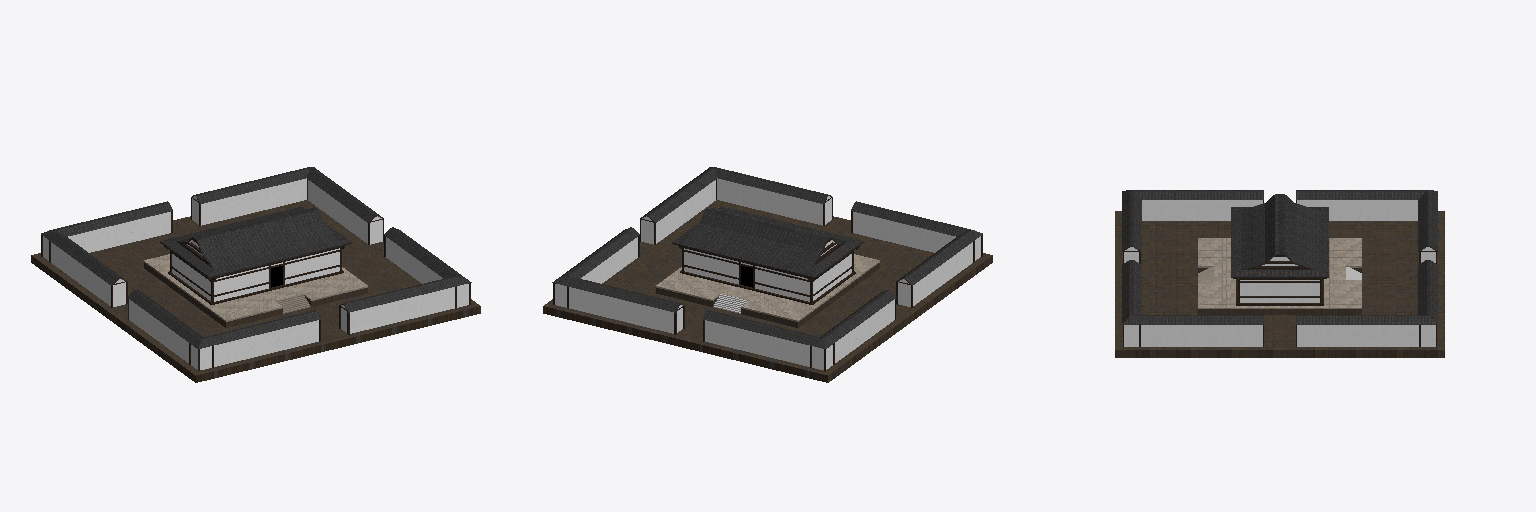
3 renders of one model, left to right at view 1: azimuth 30°, elevation 25°; view 2: azimuth 150°, elevation 25°; view 3: azimuth 270°, elevation 25°, orthographic.
Parts seen in each view (by area): view 1: Plane, Plane.005_Plane.008, Plane.011_Plane.077, Plane.013_Plane.063, Plane.001_Plane.073, Plane.034_Plane.081, Plane.016_Plane.041, Plane.003_Plane.007, Plane.014_Plane.064, Plane.035_Plane.082, Plane.008_Plane.074, Plane.012_Plane.078 (+2 smaller); view 2: Plane, Plane.005_Plane.008, Plane.034_Plane.081, Plane.001_Plane.073, Plane.013_Plane.063, Plane.011_Plane.077, Plane.016_Plane.041, Plane.003_Plane.007, Plane.008_Plane.074, Plane.012_Plane.078, Plane.014_Plane.064, Plane.035_Plane.082 (+2 smaller); view 3: Plane, Plane.005_Plane.008, Plane.016_Plane.041, Plane.011_Plane.077, Plane.034_Plane.081, Plane.012_Plane.078, Plane.035_Plane.082, Plane.014_Plane.064, Plane.008_Plane.074, Plane.013_Plane.063, Plane.001_Plane.073, Plane.003_Plane.007 (+1 smaller).
Boxes of the visible parts, x1,y1,x2,y2 form: Plane: [31, 200, 480, 382]; Plane.005_Plane.008: [160, 206, 351, 278]; Plane.011_Plane.077: [192, 178, 382, 244]; Plane.013_Plane.063: [129, 299, 318, 369]; Plane.001_Plane.073: [43, 212, 170, 306]; Plane.034_Plane.081: [341, 237, 468, 333]; Plane.016_Plane.041: [144, 254, 367, 321]; Plane.003_Plane.007: [172, 248, 339, 301]; Plane.014_Plane.064: [127, 290, 320, 348]; Plane.035_Plane.082: [339, 227, 471, 312]; Plane.008_Plane.074: [41, 201, 172, 285]; Plane.012_Plane.078: [191, 167, 383, 222]; Plane: [543, 200, 992, 382]; Plane.005_Plane.008: [672, 206, 863, 278]; Plane.034_Plane.081: [641, 178, 831, 244]; Plane.001_Plane.073: [705, 299, 894, 369]; Plane.013_Plane.063: [853, 212, 980, 306]; Plane.011_Plane.077: [555, 237, 682, 333]; Plane.016_Plane.041: [656, 254, 879, 321]; Plane.003_Plane.007: [684, 248, 851, 301]; Plane.008_Plane.074: [703, 290, 896, 348]; Plane.012_Plane.078: [552, 227, 684, 312]; Plane.014_Plane.064: [851, 201, 982, 285]; Plane.035_Plane.082: [640, 167, 832, 222]; Plane: [1115, 211, 1444, 357]; Plane.005_Plane.008: [1231, 194, 1328, 277]; Plane.016_Plane.041: [1198, 238, 1361, 308]; Plane.011_Plane.077: [1297, 325, 1435, 346]; Plane.034_Plane.081: [1124, 325, 1262, 346]; Plane.012_Plane.078: [1296, 260, 1437, 324]; Plane.035_Plane.082: [1122, 260, 1263, 324]; Plane.014_Plane.064: [1122, 190, 1263, 251]; Plane.008_Plane.074: [1296, 190, 1437, 251]; Plane.013_Plane.063: [1124, 200, 1262, 262]; Plane.001_Plane.073: [1297, 200, 1435, 262]; Plane.003_Plane.007: [1240, 280, 1319, 302].
Bounding box in the file's own units: 40 × 8.6 × 40.
7 materials, 5 textured.